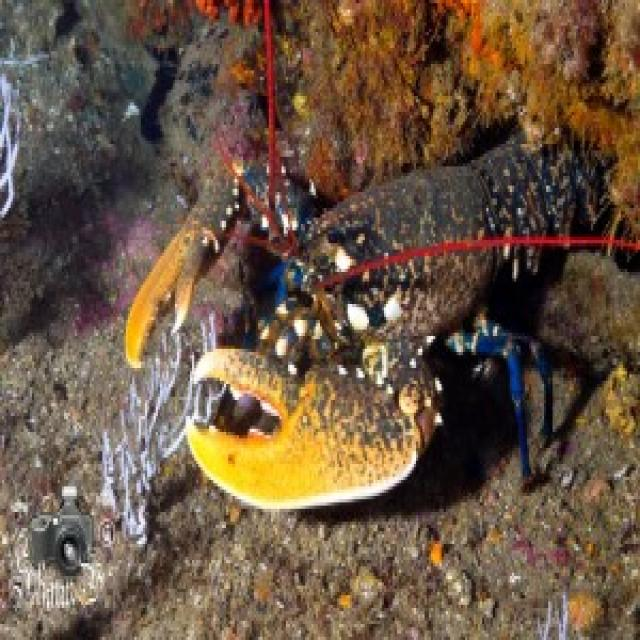lobsters: (94, 45, 640, 512)
